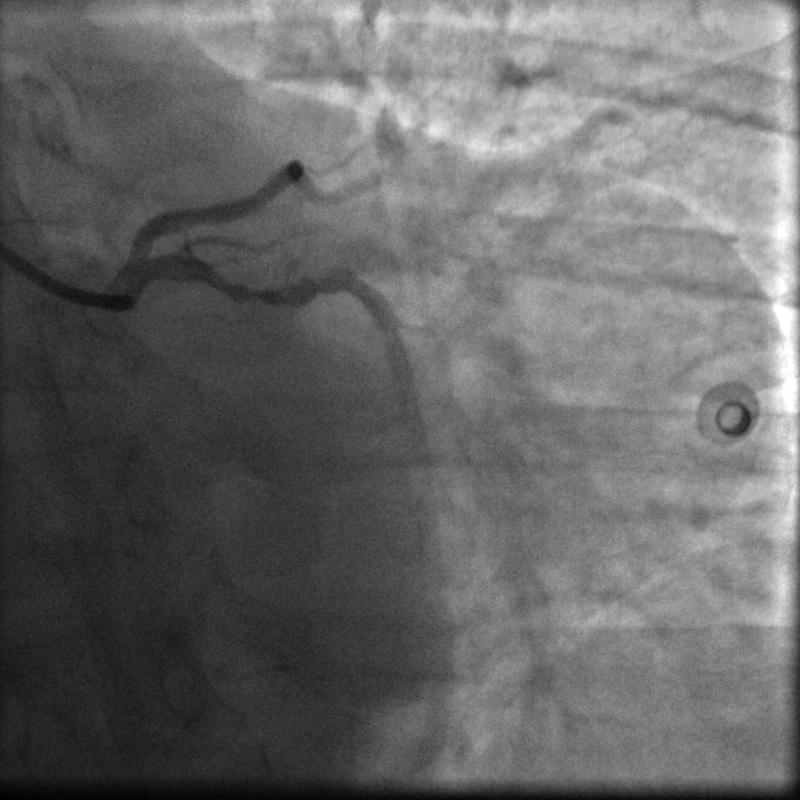Stenosis: (229, 273, 287, 307)
